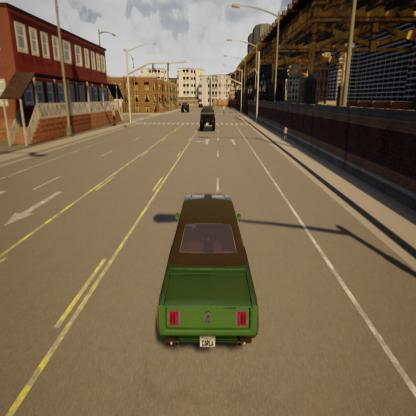Cars: (150, 162, 272, 362), (194, 87, 231, 159), (175, 92, 194, 130)
